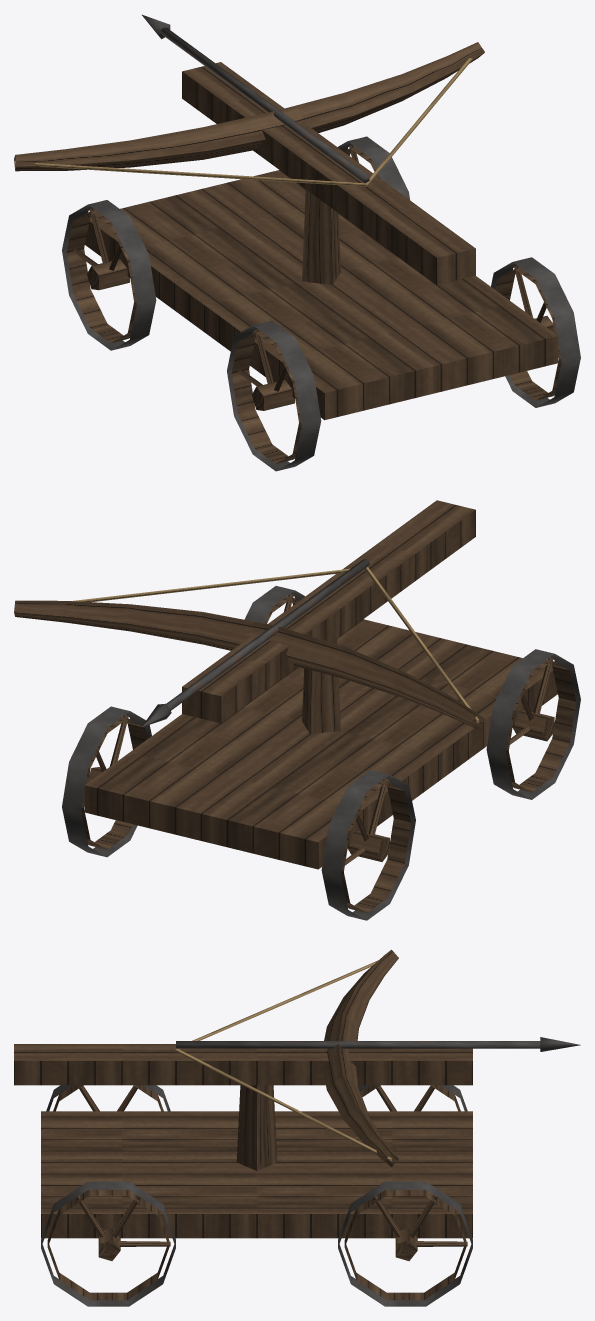
File: Ballista_1_LOD1.gltf
3 views of the same model, one above another, from view 1: azimuth 30°, elevation 25°; view 2: azimuth 150°, elevation 25°; view 3: azimuth 270°, elevation 25° (orthographic). The views are drawn at different scales.
Parts seen in each view (by area): view 1: Ballista_1_LOD1; view 2: Ballista_1_LOD1; view 3: Ballista_1_LOD1.
Boxes of the visible parts, bbox=[...] form: Ballista_1_LOD1: bbox=[14, 14, 580, 471]; Ballista_1_LOD1: bbox=[14, 500, 580, 920]; Ballista_1_LOD1: bbox=[14, 949, 580, 1306].
Size of the model in its own units: 3.61 by 1.69 by 4.2.
Materials: 3 (3 with a texture image).
